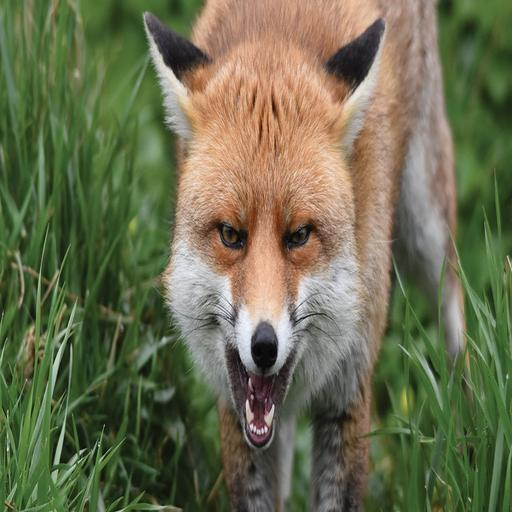Fox: (143, 0, 476, 512)
